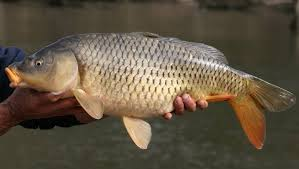carp: (4, 30, 298, 151)
